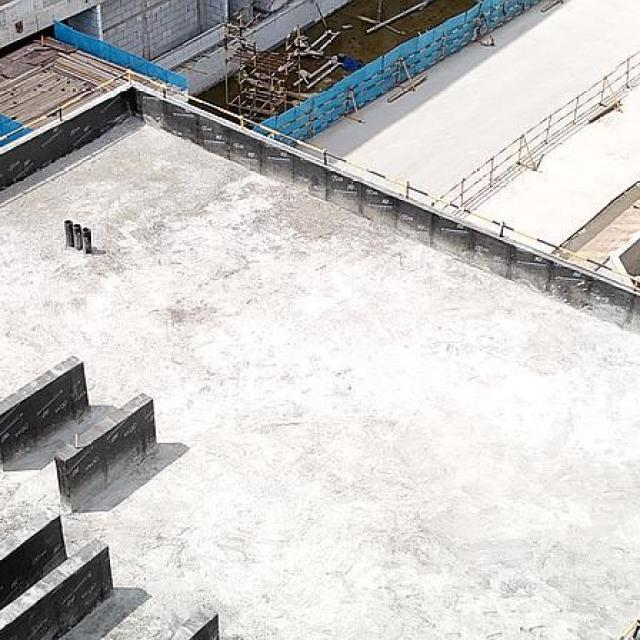edge_guardrail: (0, 67, 640, 293)
